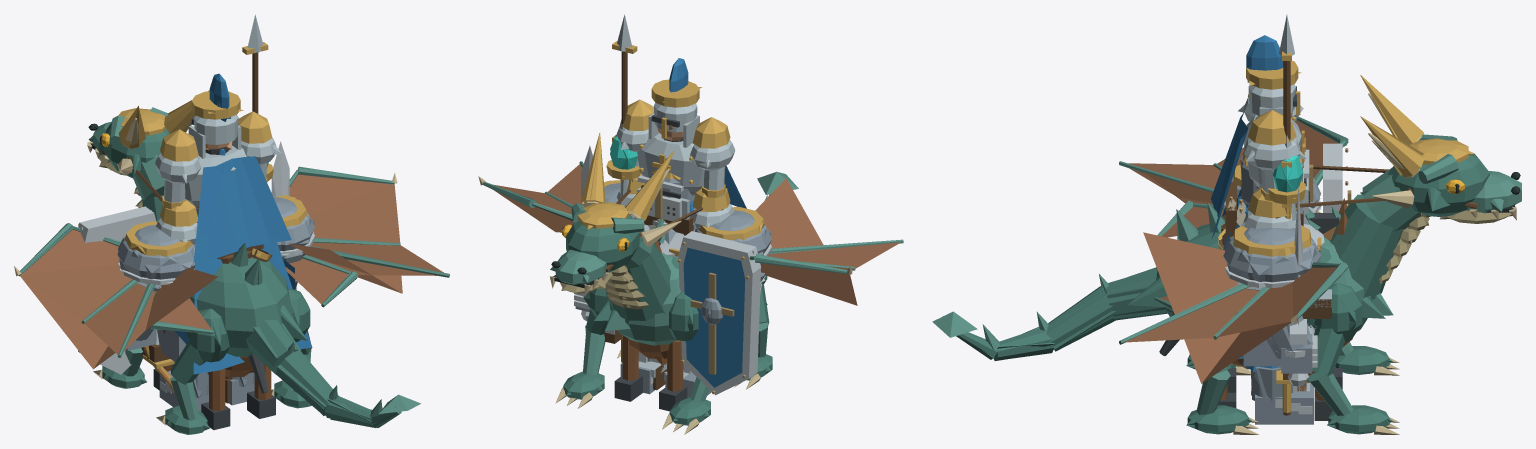
Rendered from army.glb.
3 renders of one model, left to right at view 1: azimuth 30°, elevation 25°; view 2: azimuth 150°, elevation 25°; view 3: azimuth 270°, elevation 25°, orthographic. The views are drawn at different scales.
Visible parts, largest first — view 1: R_DragonBody, R_WingMembrane1, R_WingMembrane-1, LOD_R_WingMembrane-1, LOD_R_Mantle, R_DragonTail, LOD_R_WingMembrane1, R_DragonHindlegL, N_Details, R_Cuirass, R_WingSpars1, H_Pauldron-1 (+26 smaller); view 2: R_DragonBody, LOD_H_ShieldColors, H_TowerShield, LOD_R_WingMembrane-1, R_Cuirass, N_Details, R_DragonAscendedArmor, R_DragonForelegR, R_DragonForelegL, R_AscendedCrest, R_WingMembrane-1, R_ArmMesh-1 (+22 smaller); view 3: R_DragonBody, LOD_R_WingMembrane1, R_DragonTail, R_WingMembrane1, R_DragonForelegR, H_Pauldron1, R_DragonAscendedArmor, R_ArmMesh1, LOD_R_DragonBody, LOD_H_Pauldron1, R_DragonHindlegR, H_Greave1 (+23 smaller).
Boxes of the visible parts, x1,y1,x2,y2 form: R_DragonBody: (87,107,293,356); R_WingMembrane1: (285,184,443,303); R_WingMembrane-1: (20,264,211,354); LOD_R_WingMembrane-1: (20,229,217,369); LOD_R_Mantle: (193,156,291,260); R_DragonTail: (246,320,420,427); LOD_R_WingMembrane1: (287,174,402,293); R_DragonHindlegL: (156,317,229,434); N_Details: (153,354,275,429); R_Cuirass: (185,114,246,209); R_WingSpars1: (289,166,449,307); H_Pauldron-1: (117,234,195,349); R_DragonBody: (549,168,681,345); LOD_H_ShieldColors: (683,248,745,387); H_TowerShield: (678,231,761,395); LOD_R_WingMembrane-1: (755,178,857,305); R_Cuirass: (637,102,704,219); N_Details: (614,237,687,411); R_DragonAscendedArmor: (578,133,674,228); R_DragonForelegR: (555,288,607,408); R_DragonForelegL: (662,297,710,434); R_AscendedCrest: (621,79,730,148); R_WingMembrane-1: (768,242,900,270); R_ArmMesh-1: (690,140,735,210); R_DragonBody: (1156,93,1521,331); LOD_R_WingMembrane1: (1143,232,1336,383); R_DragonTail: (932,268,1167,360); R_WingMembrane1: (1124,283,1293,342); R_DragonForelegR: (1308,288,1399,434); H_Pauldron1: (1223,228,1321,373); R_DragonAscendedArmor: (1360,75,1468,176); R_ArmMesh1: (1244,15,1300,218); LOD_R_DragonBody: (1127,150,1518,318); LOD_H_Pauldron1: (1224,227,1320,373); R_DragonHindlegR: (1172,311,1258,434); H_Greave1: (1250,366,1313,424).
Bounding box in the file's own units: 3 × 2.8 × 3.61.
